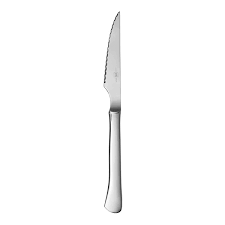kuchillu: (100, 9, 129, 215)
